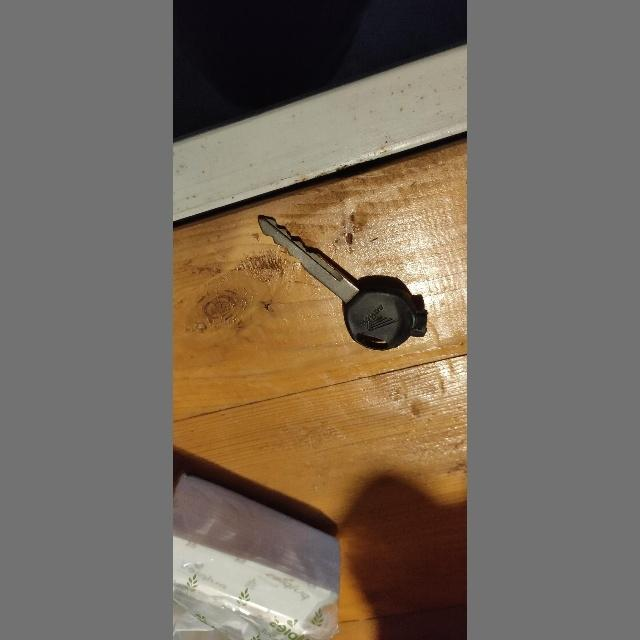Keys: (260, 209, 438, 359)
